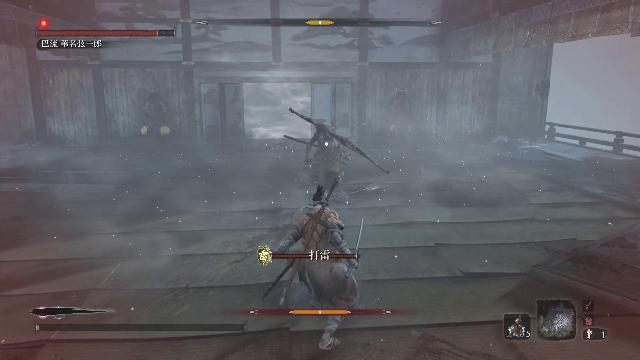sk: (275, 180, 363, 355)
